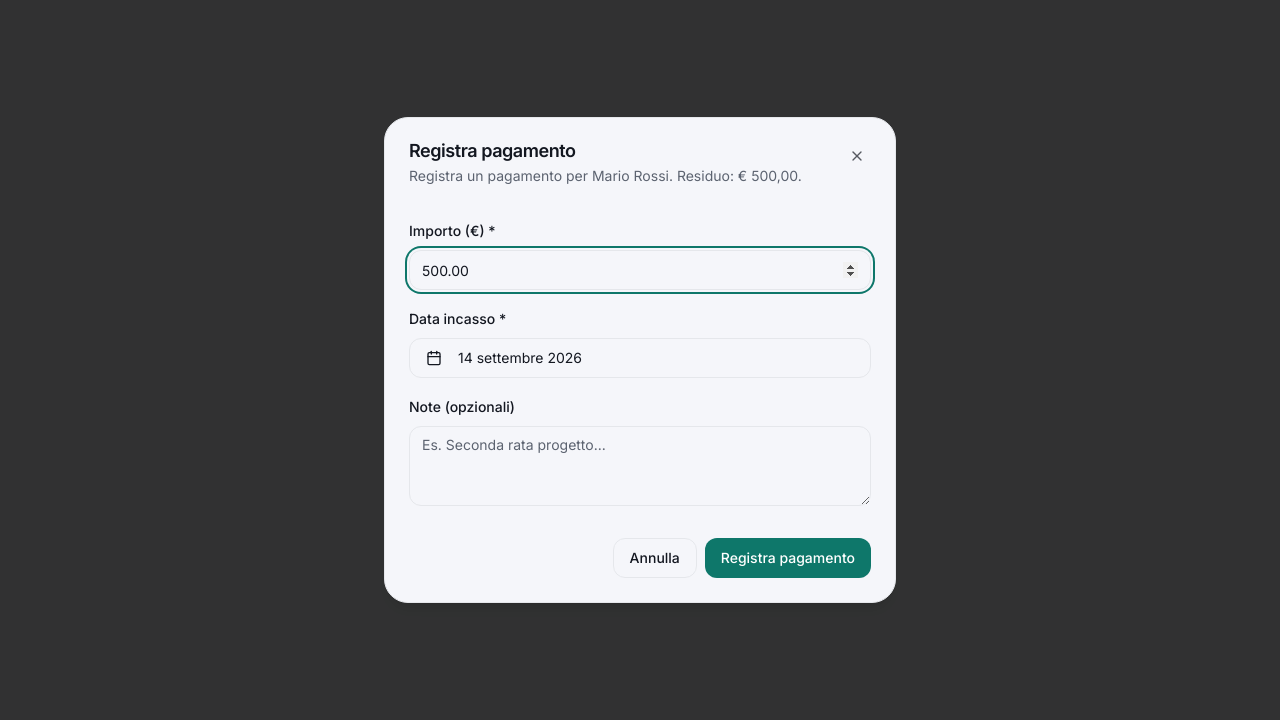
Test case: RegisterPaymentDialog › validates importo > 0
Note: Set importo to 0
Step 1. Replace the text in the number field with test id "payment-amount" with "0" → (640, 270), box [409,250,871,290]
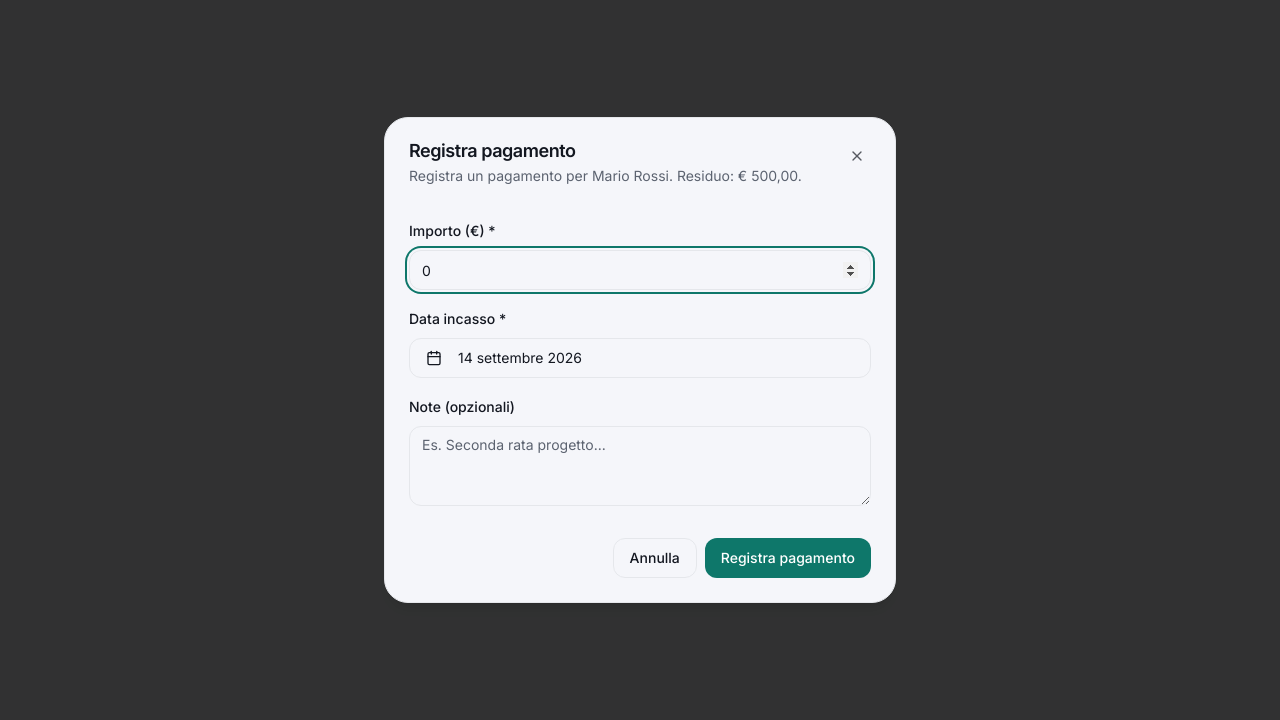
Step 2. Click the button with test id "confirm-payment" → (788, 558), box [705,538,871,578]
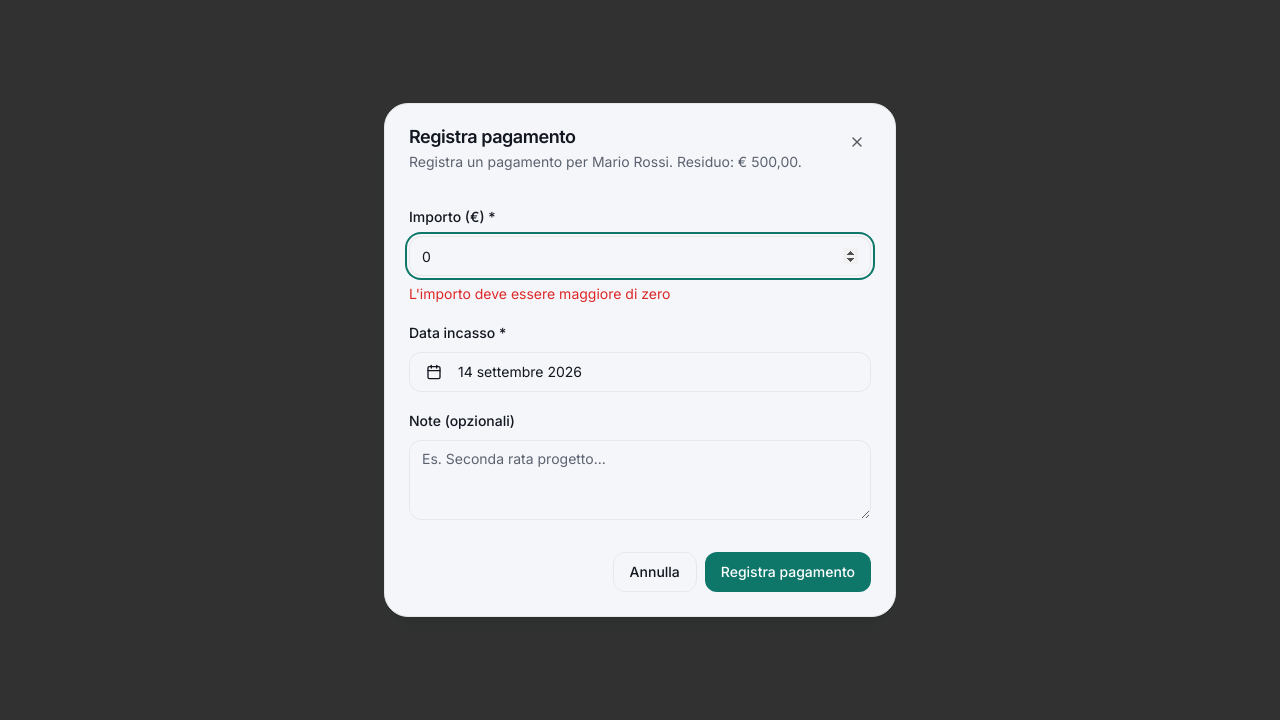
Result: the text "L'importo deve essere maggiore di zero" is shown at [409,285,670,302]
